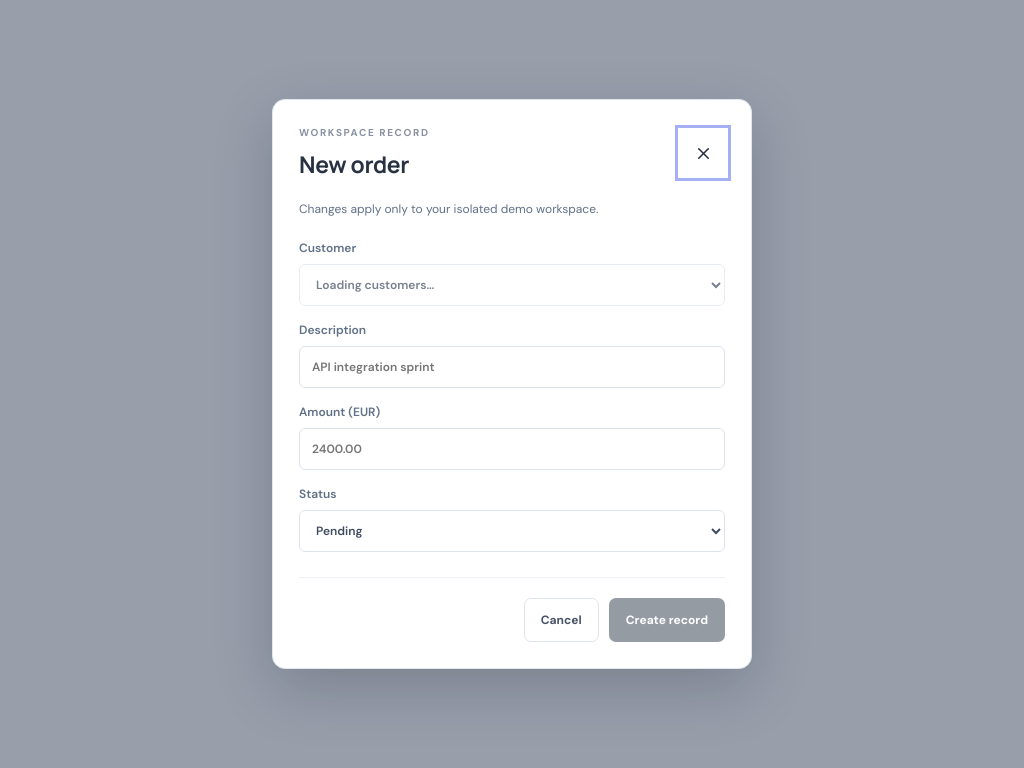
Portfolio workflow recovery › retries customer options without losing an unfinished order
Type "Integration review" into the field labelled "Description". click: [512, 367]
box: [299,346,725,388]
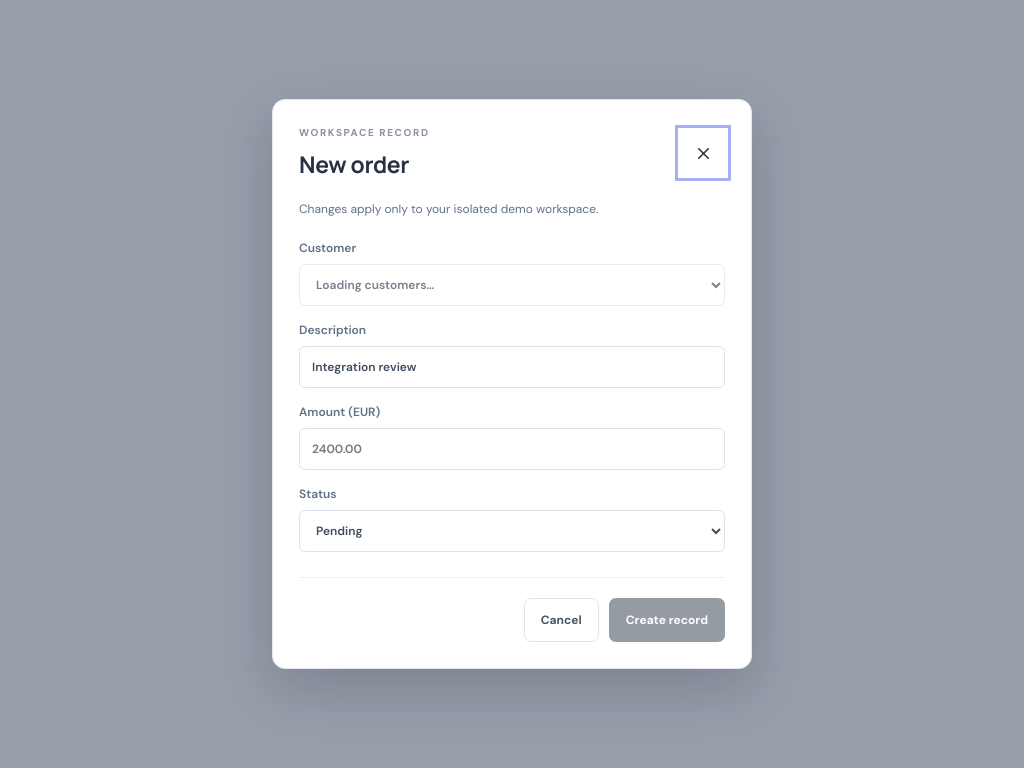
Type "1250.50" into the field labelled "Amount (EUR)". click: [512, 449]
box: [299,428,725,470]
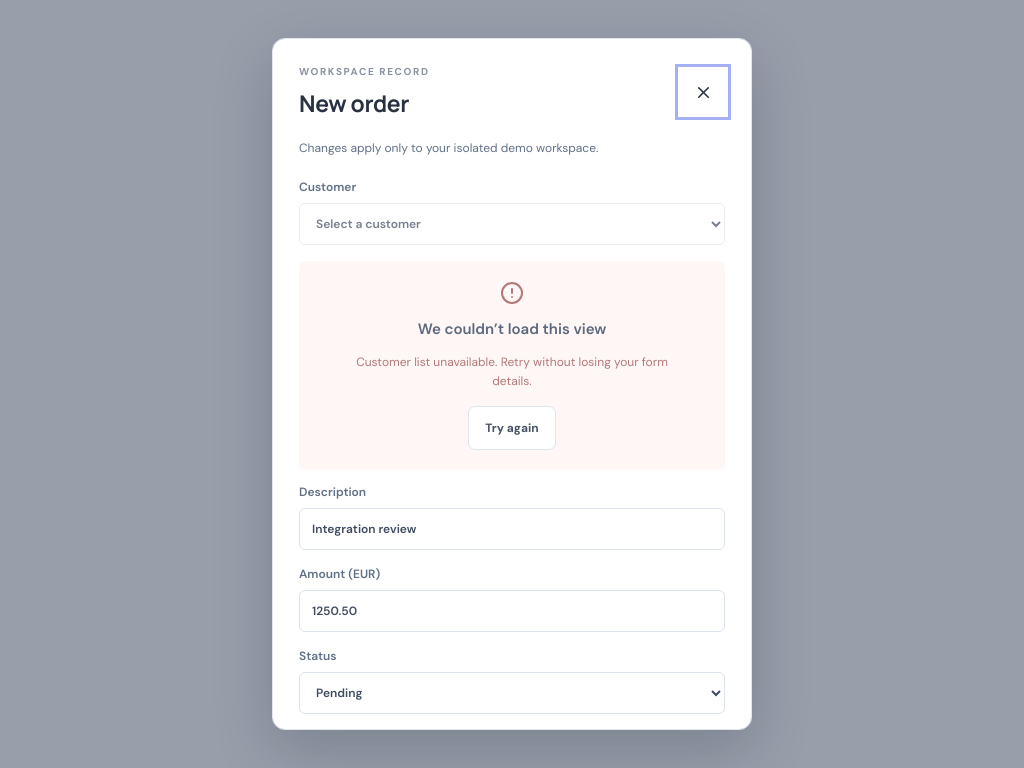
Click the button "Try again". click: [512, 428]
box: [468,406,556,450]
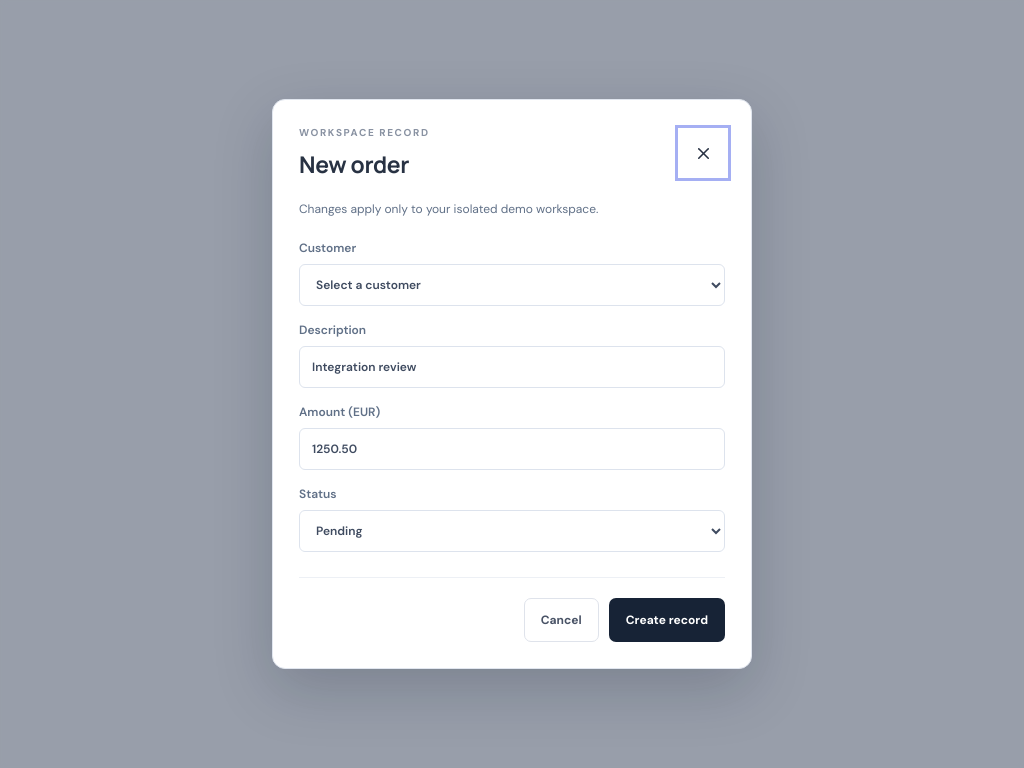
Expected: the button "Create record" is enabled, [609,598,725,642]
